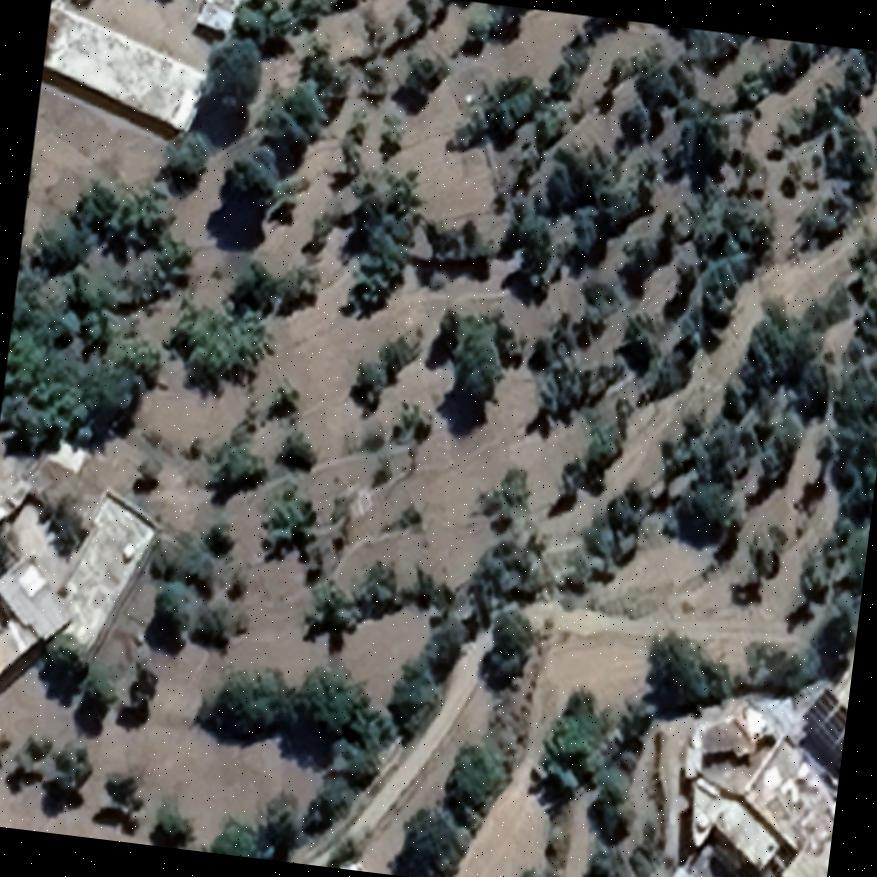Solarpanel: (794, 681, 850, 754)
